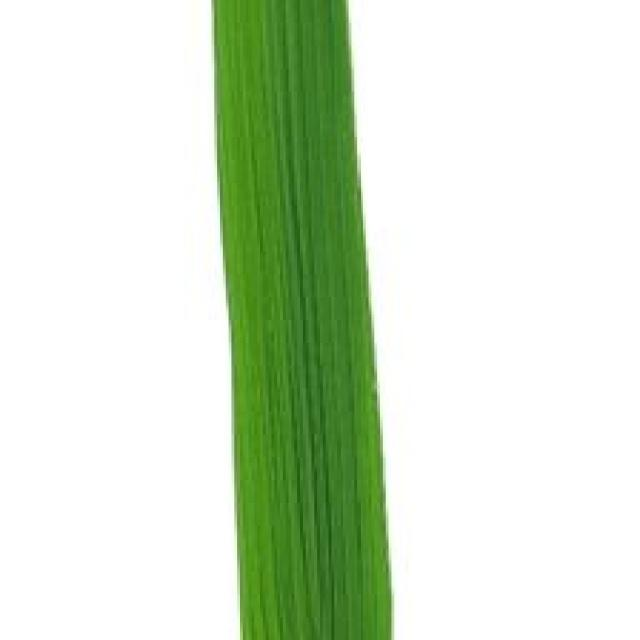Rice___Healthy_Rice_Plant: (209, 0, 393, 637)
